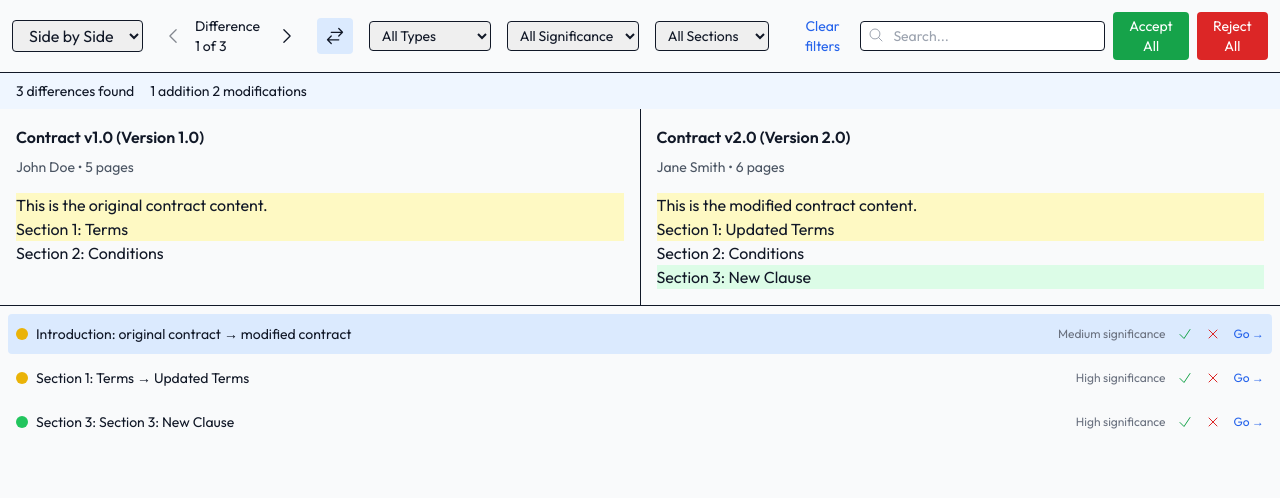
Test: ComparisonView › View Modes › should switch to inline view
The image size is (1280, 498).
Select "Inline" in the dropdown named "view mode" at (78, 36), box [12,20,143,52]
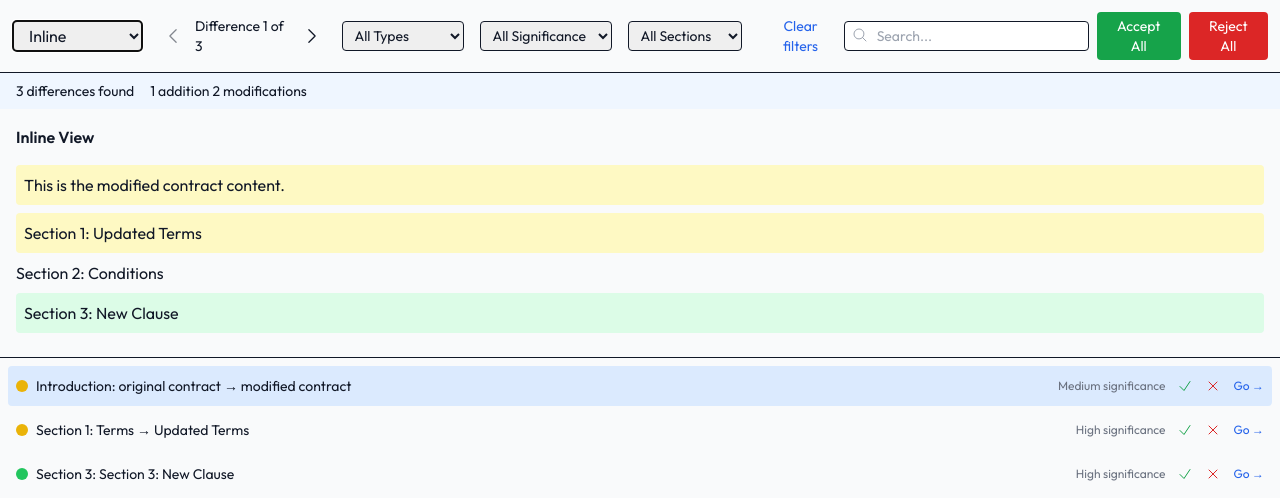
Check: the element named "inline comparison" is shown, box [0,109,1279,357]
